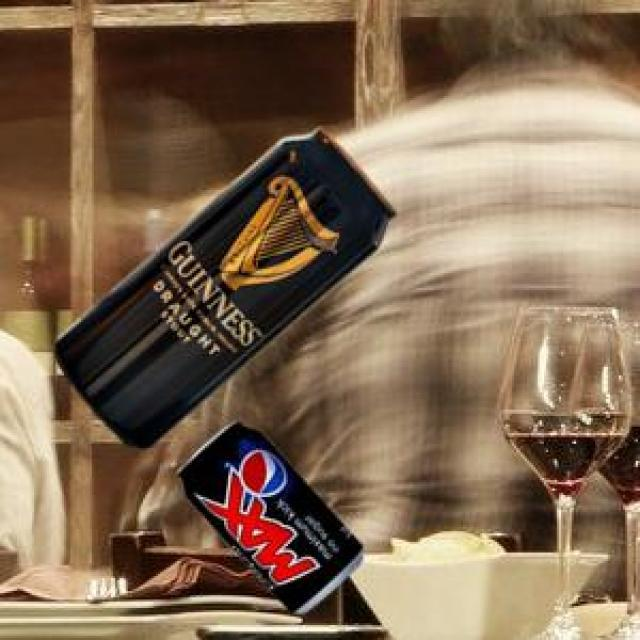Can: (54, 125, 394, 445), (176, 419, 359, 609)
